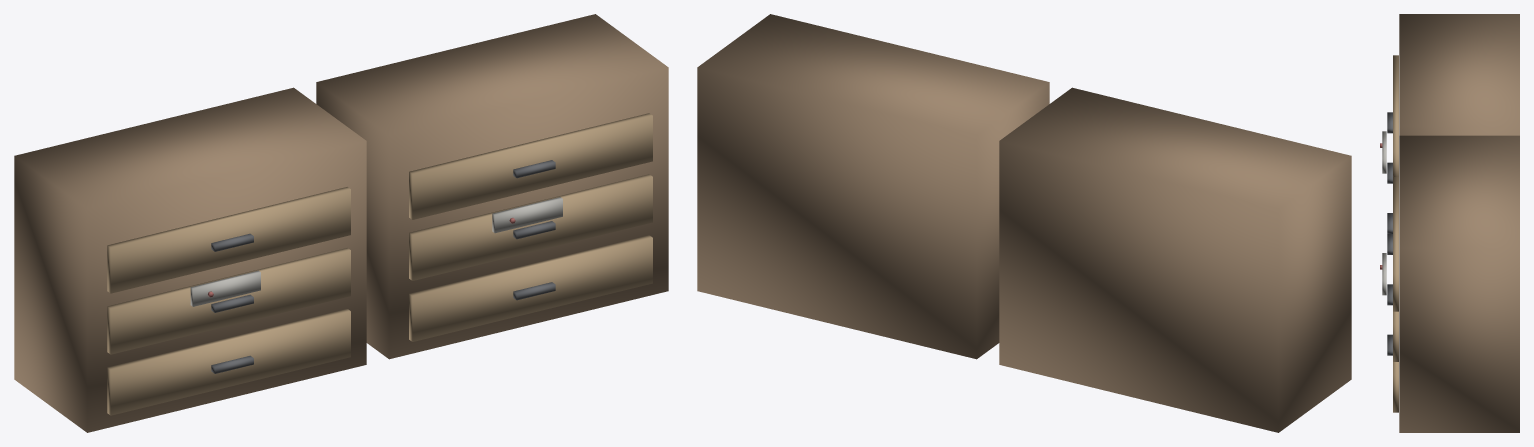
The model's file is motel_dresser__cluster.glb.
3 views of the same model, side by side, from view 1: azimuth 30°, elevation 25°; view 2: azimuth 150°, elevation 25°; view 3: azimuth 270°, elevation 25° (orthographic). The views are drawn at different scales.
Visible parts, largest first — view 1: world; view 2: world; view 3: world.
Part boxes in pixels (x1,y1,x2,y2): world: [14, 14, 668, 432]; world: [697, 14, 1351, 432]; world: [1380, 14, 1519, 432].
Size of the model in its own units: 2.39 by 0.88 by 0.6035.
